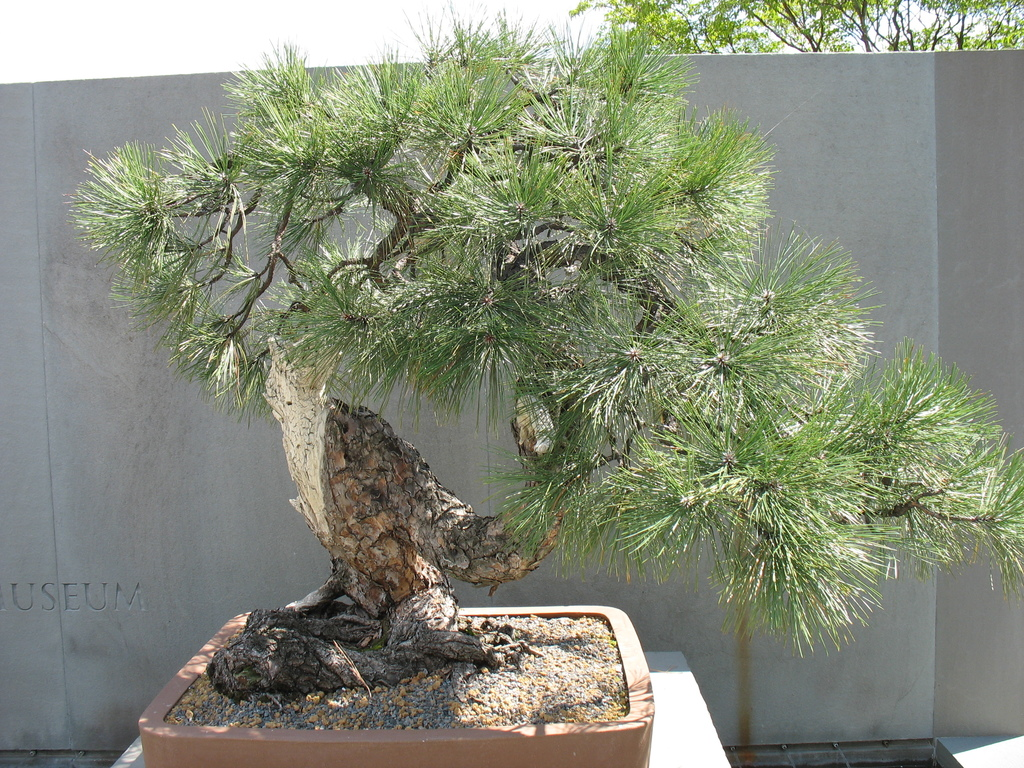Tree: (62, 0, 1024, 713)
